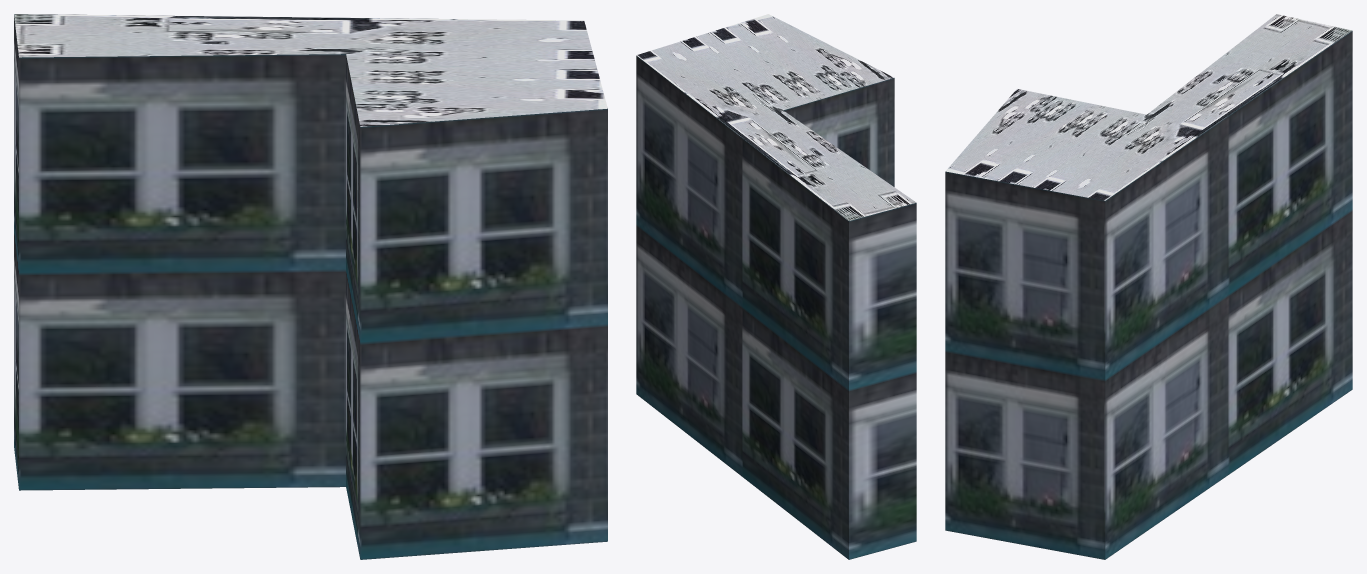
The model's file is ResTex__1988.fbx.
3 renders of one model, left to right at view 1: azimuth 30°, elevation 25°; view 2: azimuth 150°, elevation 25°; view 3: azimuth 270°, elevation 25°, orthographic. The views are drawn at different scales.
Parts seen in each view (by area): view 1: CityEngineMaterial_11_m, CityEngineMaterial_8_m; view 2: CityEngineMaterial_11_m, CityEngineMaterial_8_m; view 3: CityEngineMaterial_11_m, CityEngineMaterial_8_m.
Part boxes in pixels (bbox=[...]): CityEngineMaterial_11_m: bbox=[14, 15, 607, 559]; CityEngineMaterial_8_m: bbox=[14, 14, 607, 126]; CityEngineMaterial_11_m: bbox=[636, 55, 916, 559]; CityEngineMaterial_8_m: bbox=[636, 14, 916, 220]; CityEngineMaterial_11_m: bbox=[945, 31, 1352, 559]; CityEngineMaterial_8_m: bbox=[945, 14, 1352, 200].
Bounding box in the file's own units: 6.7 × 6 × 6.17.
2 materials, 2 textured.
